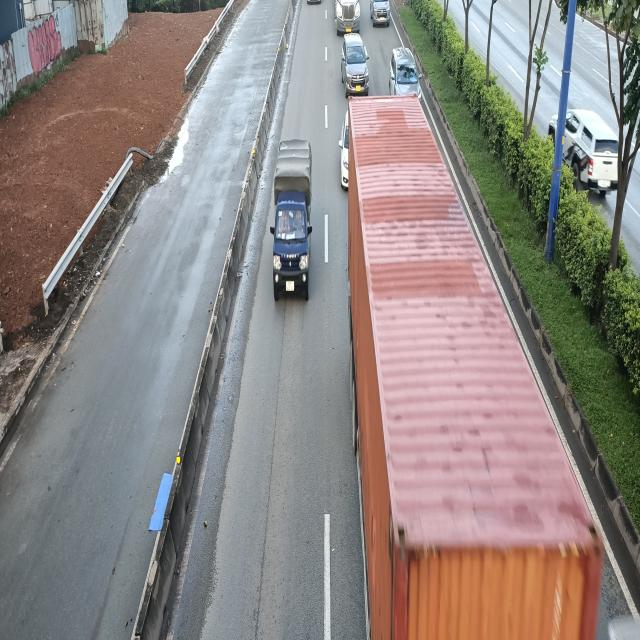car: (342, 36, 370, 96)
container: (341, 94, 606, 637), (334, 0, 362, 35)
truck: (272, 138, 315, 300)
